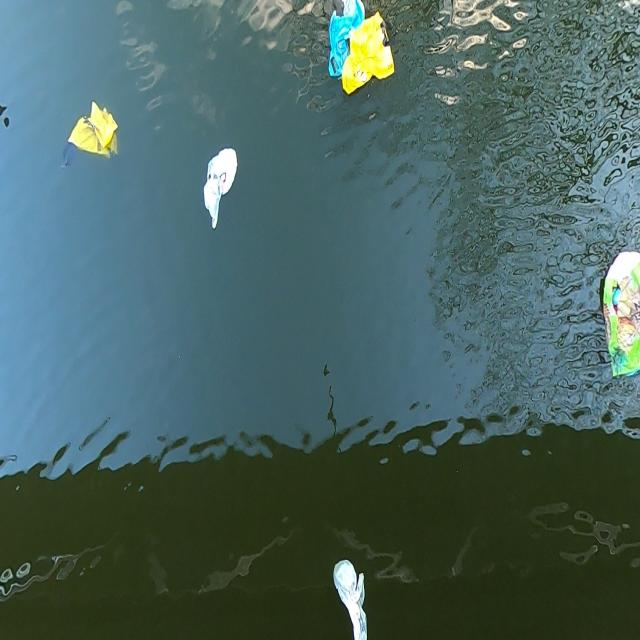Sac plastique: (335, 10, 401, 105), (599, 240, 640, 390), (312, 0, 369, 89), (58, 99, 125, 172), (197, 141, 244, 231), (330, 550, 373, 640)
